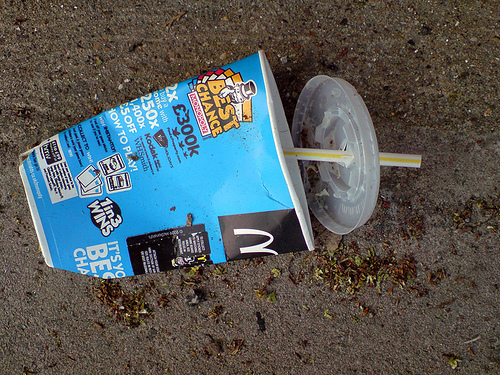litter: (20, 49, 423, 277)
